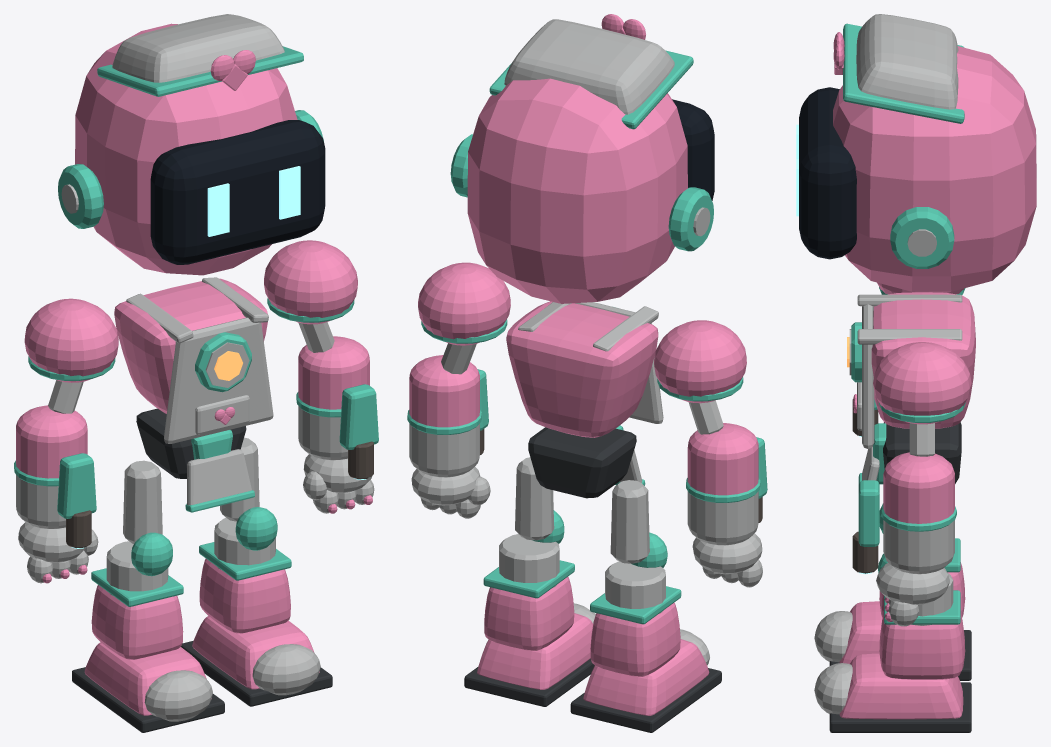
The model's file is enfermeira.glb.
3 renders of one model, left to right at view 1: azimuth 30°, elevation 25°; view 2: azimuth 150°, elevation 25°; view 3: azimuth 270°, elevation 25°, orthographic.
Visible parts, largest first — view 1: cabeca_p.001, visor.001, tronco_p.001, touca, avental, ombro_p.003, ombro_p.002, bota.002, bota.003, pe.002, pe.003, coxa.003 (+38 smaller); view 2: cabeca_p.001, tronco_p.001, touca, ombro_p.003, ombro_p.002, pelve.001, pe.003, bota.003, bota.002, pe.002, coxa.003, antebraco.003 (+25 smaller); view 3: cabeca_p.001, touca, visor.001, ombro_p.002, pe.002, tronco_p.001, bota.002, fone, antebraco.002, antebraco_b, touca_faixa, sola.002 (+24 smaller).
Part boxes in pixels (<box>): cabeca_p.001: <box>75,23,297,275</box>; visor.001: <box>150,120,325,264</box>; tronco_p.001: <box>114,278,267,413</box>; touca: <box>112,14,284,82</box>; avental: <box>164,317,273,443</box>; ombro_p.003: <box>24,298,118,382</box>; ombro_p.002: <box>264,240,357,324</box>; bota.002: <box>199,558,290,633</box>; bota.003: <box>91,585,183,659</box>; pe.002: <box>192,616,319,689</box>; pe.003: <box>84,642,211,715</box>; coxa.003: <box>123,460,162,544</box>; cabeca_p.001: <box>467,78,687,303</box>; tronco_p.001: <box>506,301,658,437</box>; touca: <box>504,19,674,114</box>; ombro_p.003: <box>654,320,746,403</box>; ombro_p.002: <box>418,262,510,345</box>; pelve.001: <box>528,427,636,498</box>; pe.003: <box>583,639,709,715</box>; bota.003: <box>590,602,680,676</box>; bota.002: <box>484,577,574,650</box>; pe.002: <box>477,613,593,689</box>; coxa.003: <box>610,480,649,563</box>; antebraco.003: <box>687,445,758,495</box>; cabeca_p.001: <box>833,46,1036,291</box>; touca: <box>856,14,958,109</box>; visor.001: <box>799,87,856,259</box>; ombro_p.002: <box>873,342,971,424</box>; pe.002: <box>839,653,963,719</box>; tronco_p.001: <box>871,292,975,428</box>; bota.002: <box>879,614,965,679</box>; fone: <box>890,207,954,268</box>; antebraco.002: <box>883,474,954,523</box>; antebraco_b: <box>883,520,954,566</box>; touca_faixa: <box>843,23,964,123</box>; sola.002: <box>829,682,971,732</box>.
Size of the model in its own units: 0.646 by 1.16 by 0.3901.
